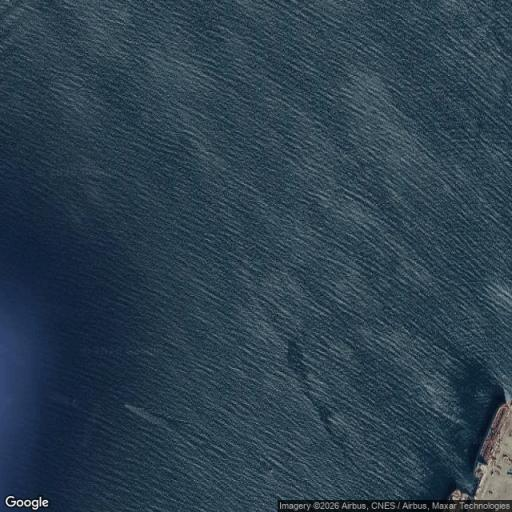ship: (474, 399, 510, 481), (448, 489, 463, 504)
